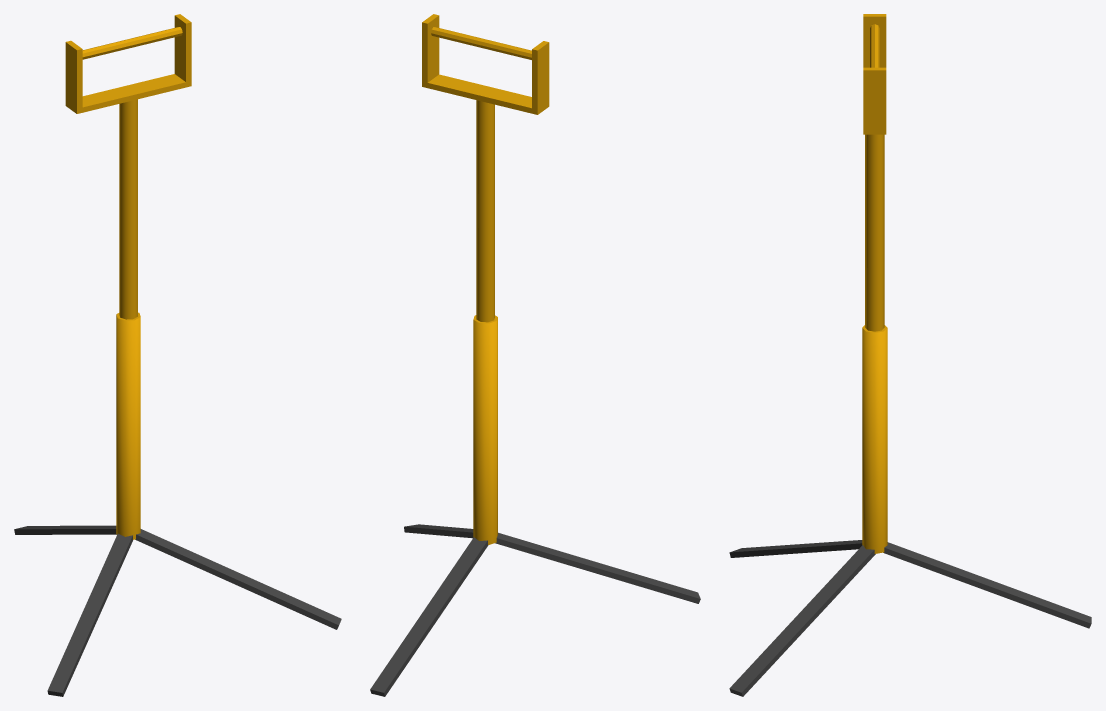
The model's file is spotlight.fbx.
3 renders of one model, left to right at view 1: azimuth 30°, elevation 25°; view 2: azimuth 150°, elevation 25°; view 3: azimuth 270°, elevation 25°, orthographic.
Visible parts, largest first — view 1: spotlight; view 2: spotlight; view 3: spotlight.
Part boxes in pixels (x1,y1,x2,y2): spotlight: [14, 14, 341, 696]; spotlight: [370, 14, 700, 696]; spotlight: [729, 14, 1091, 696].
Size of the model in its own units: 105 by 198 by 111.
